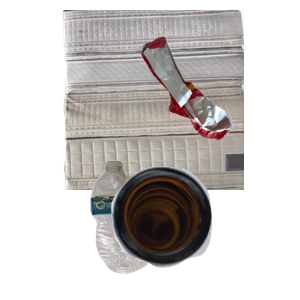glass: (109, 164, 300, 300)
paper: (60, 10, 300, 190)
plastic: (88, 158, 229, 300)
trash: (139, 34, 300, 167)
